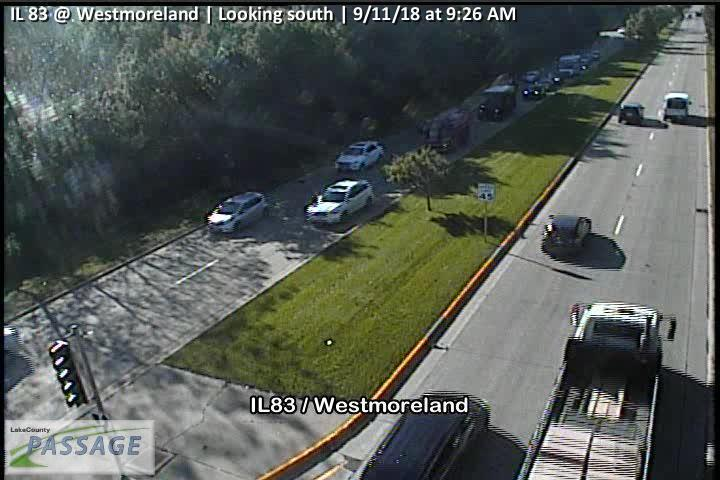SUV: (360, 390, 492, 480), (304, 177, 373, 226), (207, 191, 268, 234), (542, 213, 591, 250), (336, 139, 383, 170), (663, 93, 691, 120), (618, 103, 645, 124), (522, 84, 546, 100)
Truck: (513, 302, 677, 480), (424, 106, 471, 154), (476, 83, 517, 122)
